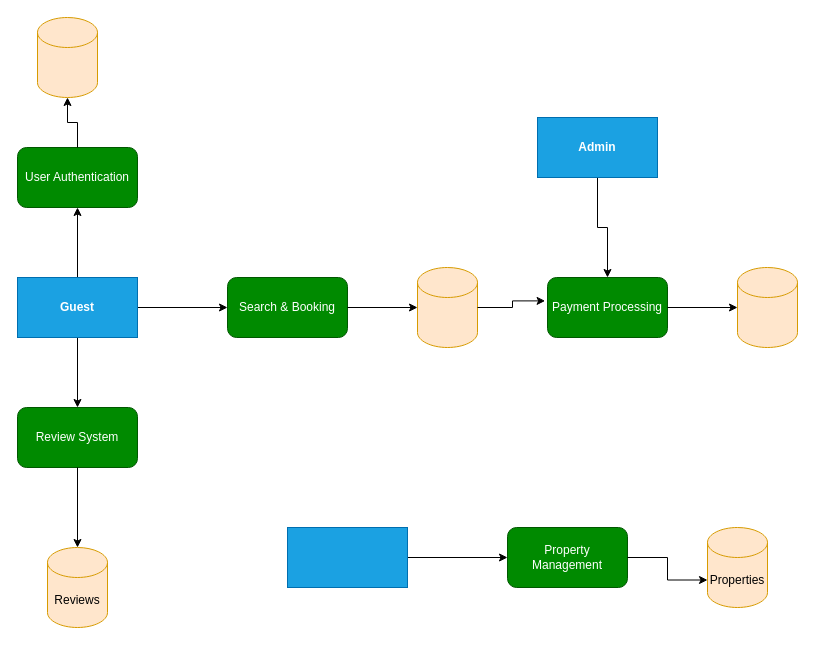
This 815x645 diagram has some shape labels left out. The shapes that lost their labels are listed below. From the top down, each one's box as (x1, y1, x2, y2) in pixels, then its label:
(36, 16, 98, 98): Users
(416, 266, 478, 348): Bookings
(736, 266, 798, 348): Payments
(286, 526, 408, 588): Host
